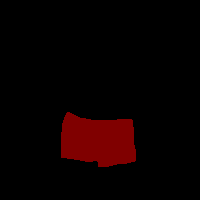mutande: (61, 111, 136, 167)
